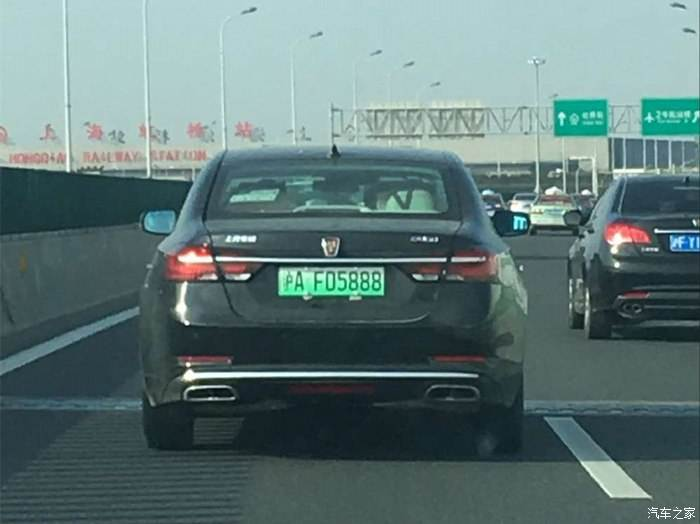plate: (268, 253, 399, 308)
